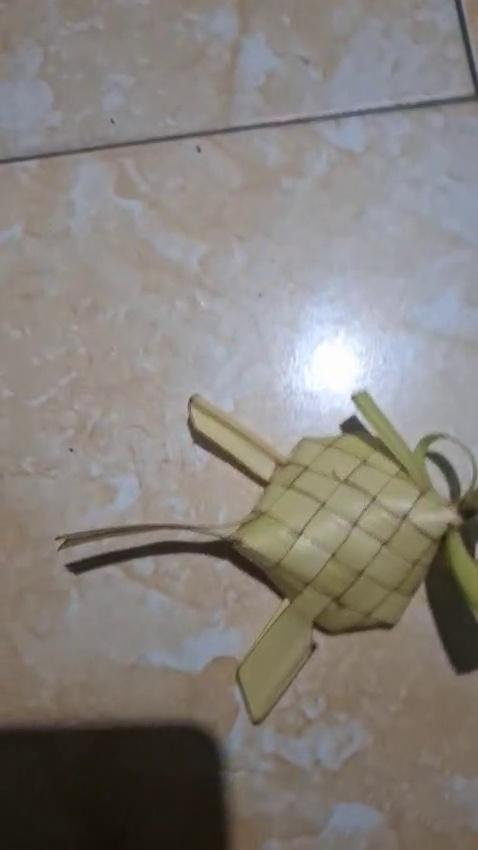Tipat Dampulan: (52, 381, 477, 732)
